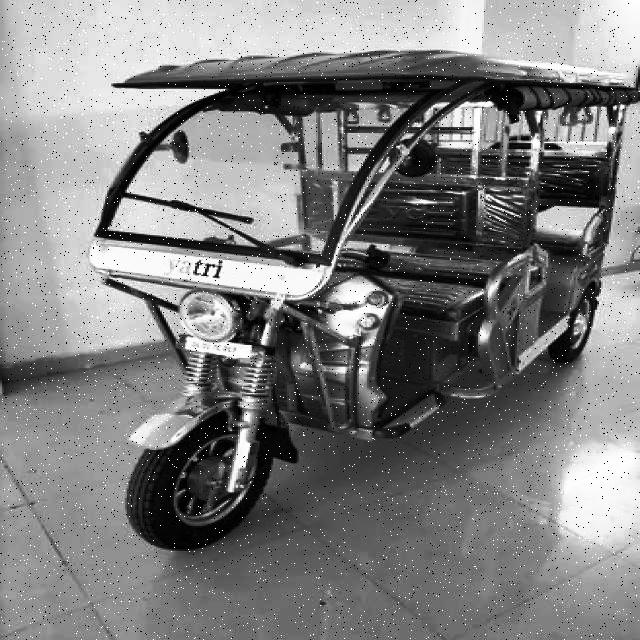Toto: (91, 35, 635, 541)
